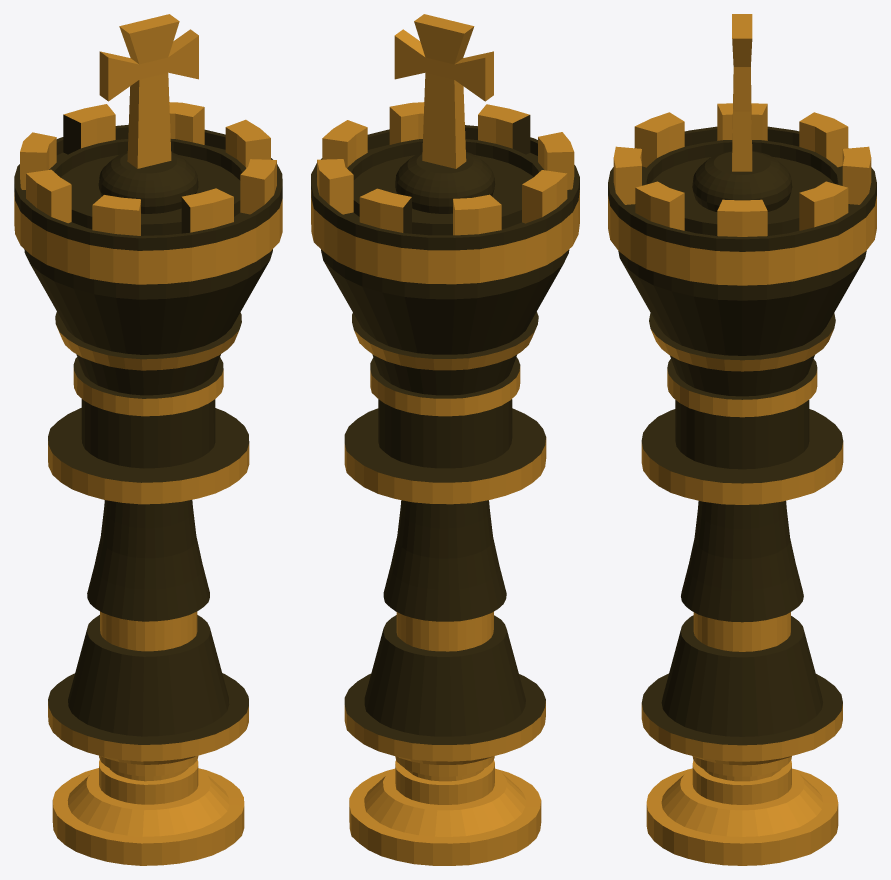
File: metal_k_b.glb
The picture shows the model from 3 angles, left to right: view 1: azimuth 30°, elevation 25°; view 2: azimuth 150°, elevation 25°; view 3: azimuth 270°, elevation 25°; orthographic projection.
Visible parts, largest first — view 1: k1, k0; view 2: k1, k0; view 3: k1, k0.
Boxes of the visible parts, x1,y1,x2,y2 form: k1: [14, 114, 282, 744]; k0: [14, 14, 282, 865]; k1: [311, 115, 579, 744]; k0: [311, 14, 579, 865]; k1: [608, 126, 876, 745]; k0: [608, 14, 876, 865].
Size of the model in its own units: 0.2743 by 0.9 by 0.2743.
